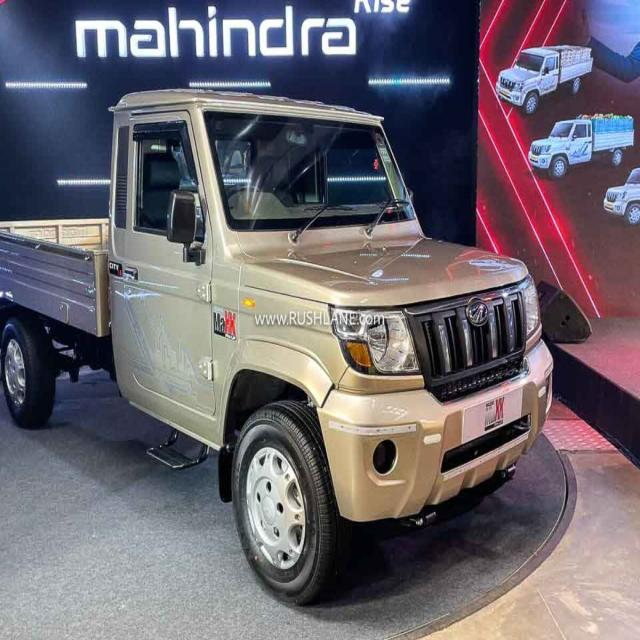light_vehicle: (1, 93, 552, 607)
